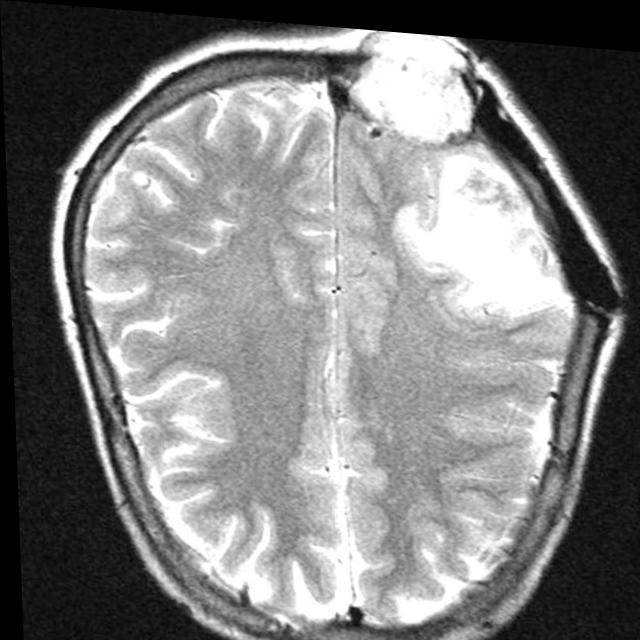Tumor: (398, 147, 571, 308), (343, 25, 477, 138)
